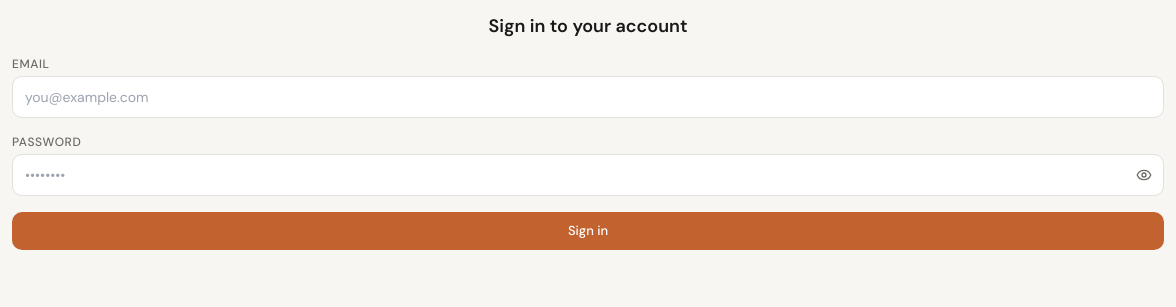
Scenario: Login form › shows validation errors and does not submit invalid input
Type "user@localhost" into the field with placeholder "you@example.com" at (588, 97), box x1=12 y1=76 x2=1164 y2=118
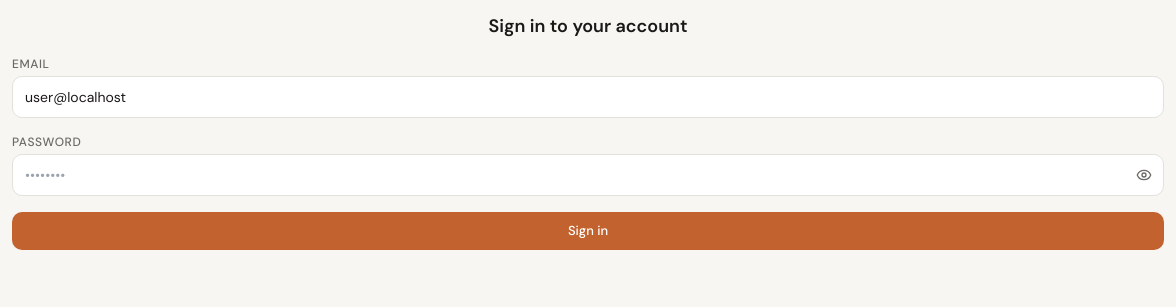
Click the button "Sign in" at (588, 231), box x1=12 y1=212 x2=1164 y2=250
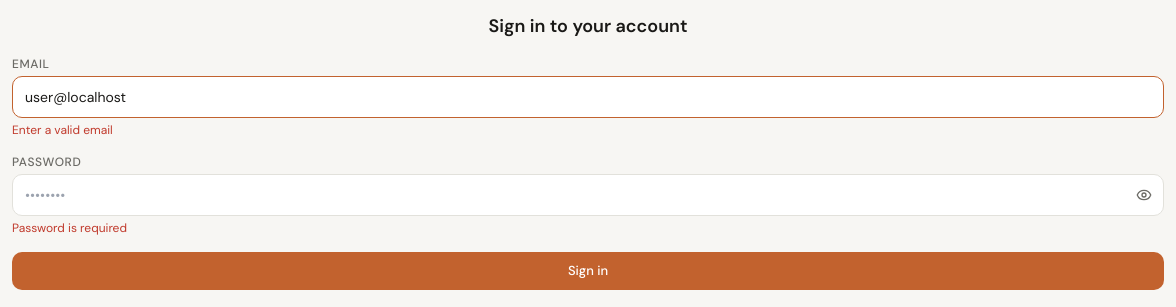
Check: the text "Enter a valid email" is shown, box x1=12 y1=122 x2=113 y2=138
Check: the text "Password is required" is shown, box x1=12 y1=220 x2=127 y2=236
